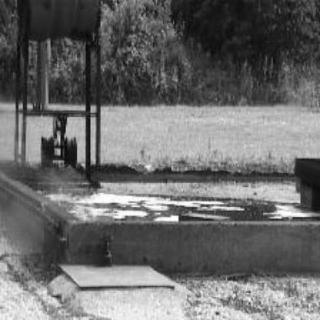Fire: (72, 203, 90, 221)
